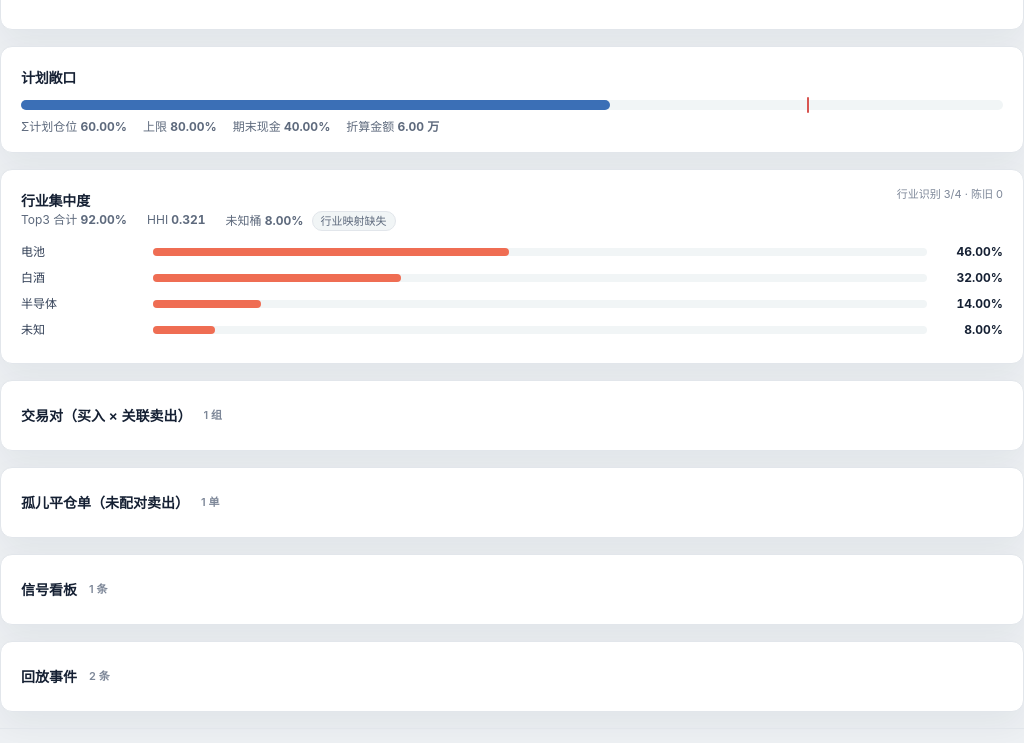
Test: ViewPortfolio › 事件折叠区：可解释性注记 + 四类型中文徽标；信号看板含 note 与费用估算列
(page scrolled)
Click the button with test id "portfolio-events-toggle". click: (49, 677)
box: [21, 658, 1003, 695]
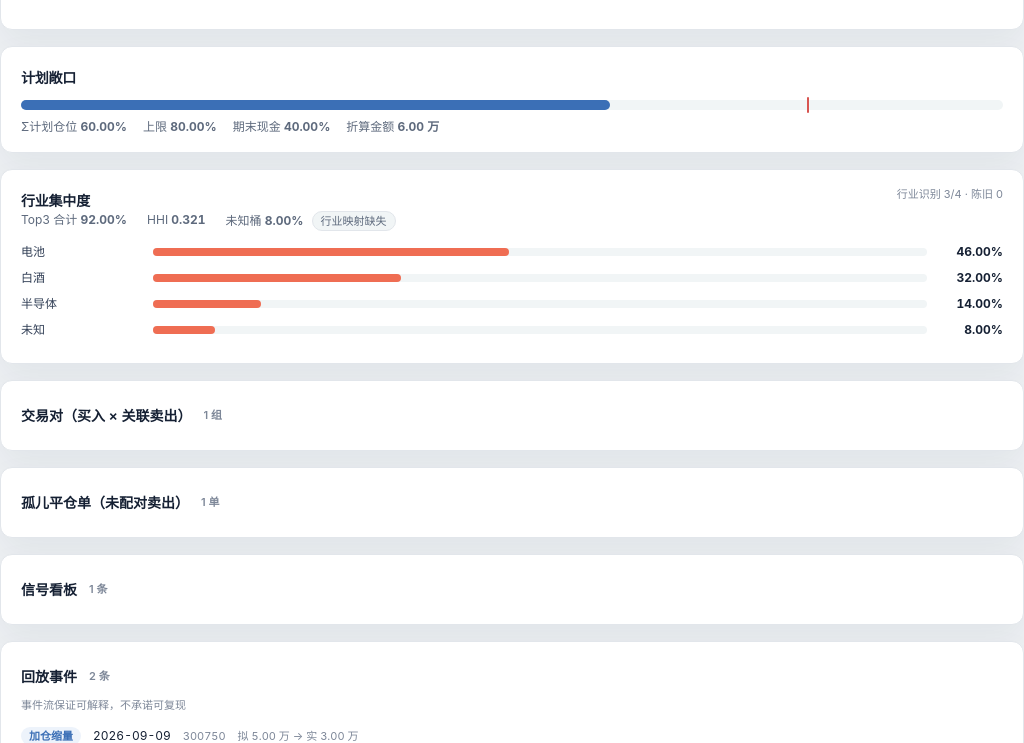
Expected: the text with test id "portfolio-events-note" reads "事件流保证可解释，不承诺可复现", [21, 698, 186, 712]
Click the button with test id "portfolio-signals-toggle". click: (49, 590)
box: [21, 571, 1003, 608]
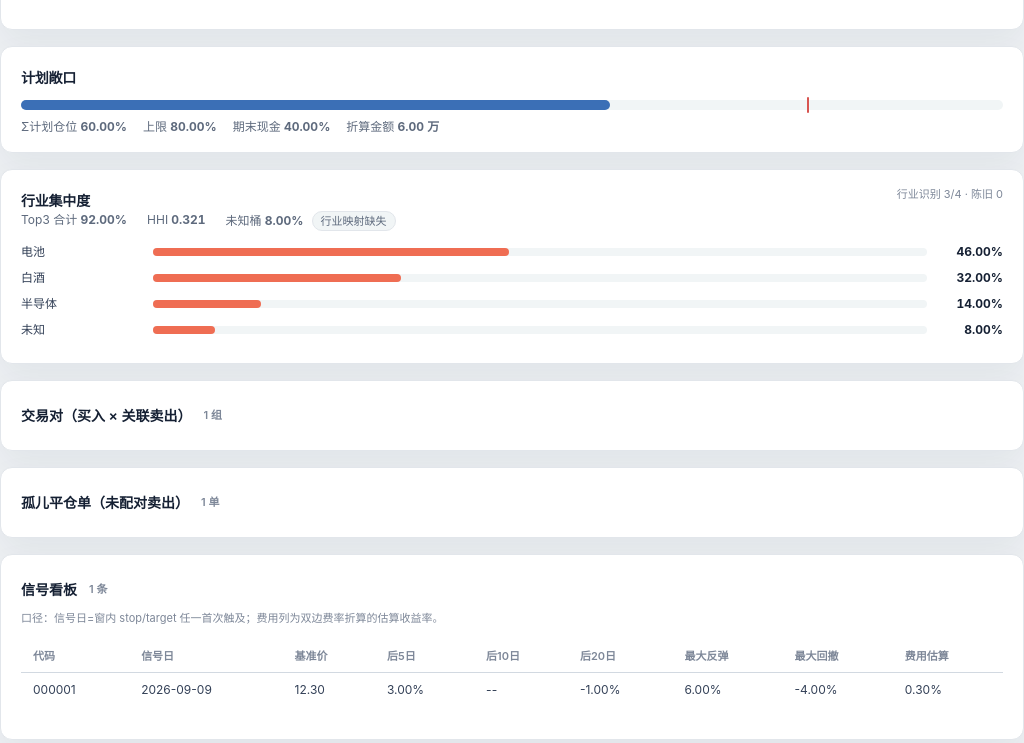
Expected: the text with test id "portfolio-signals-note" shows "信号日=窗内", [21, 611, 444, 625]
Expected: the table with test id "portfolio-signals" shows "费用估算", [905, 649, 949, 663]
